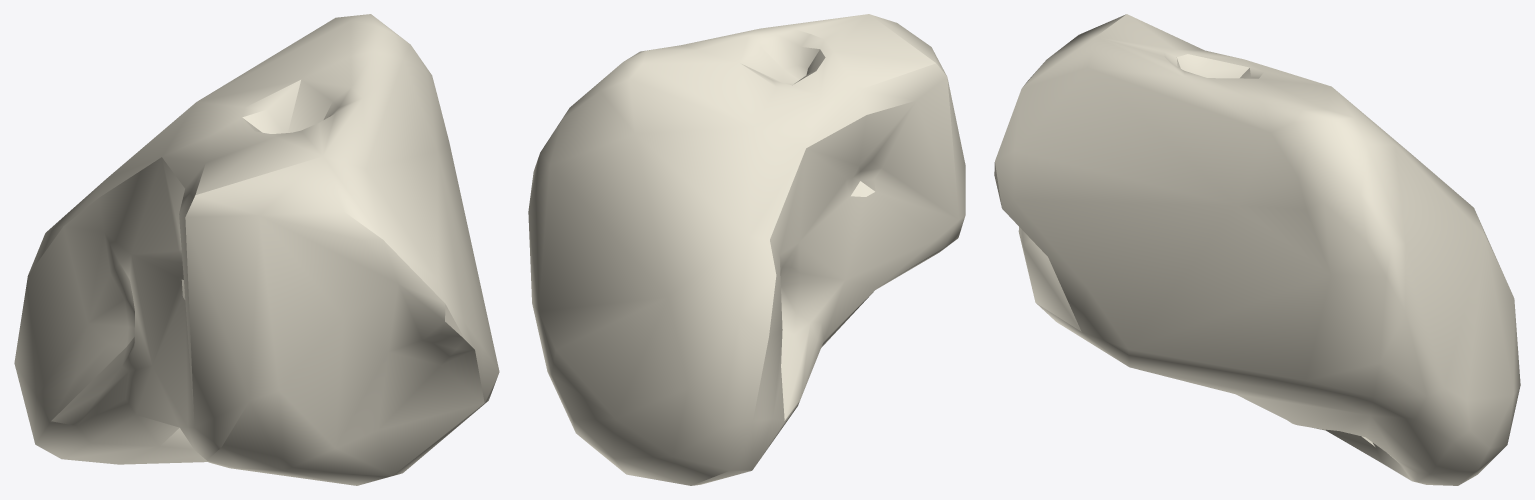
File: fma24445_fj3284.glb
3 renders of one model, left to right at view 1: azimuth 30°, elevation 25°; view 2: azimuth 150°, elevation 25°; view 3: azimuth 270°, elevation 25°, orthographic. The views are drawn at different scales.
Parts seen in each view (by area): view 1: FMA24445_FJ3284; view 2: FMA24445_FJ3284; view 3: FMA24445_FJ3284.
Part boxes in pixels (x1=…): FMA24445_FJ3284: x1=14, y1=14, x2=499, y2=485; FMA24445_FJ3284: x1=528, y1=14, x2=965, y2=485; FMA24445_FJ3284: x1=994, y1=14, x2=1520, y2=485.
Size of the model in its own units: 0.011 by 0.0125 by 0.0148.
